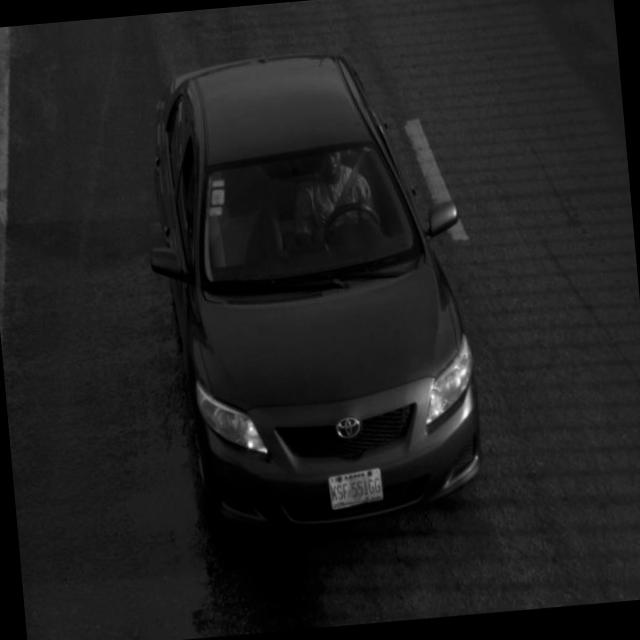person_with_seatbelt: (274, 126, 406, 288)
